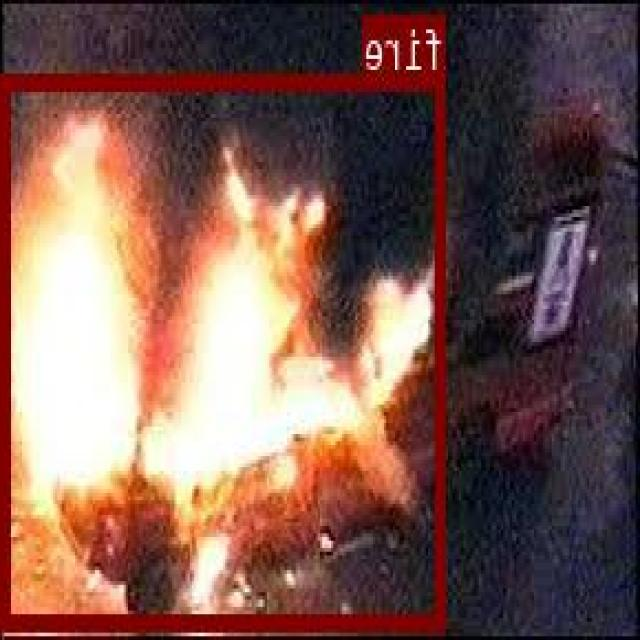fire: (4, 71, 447, 625)
